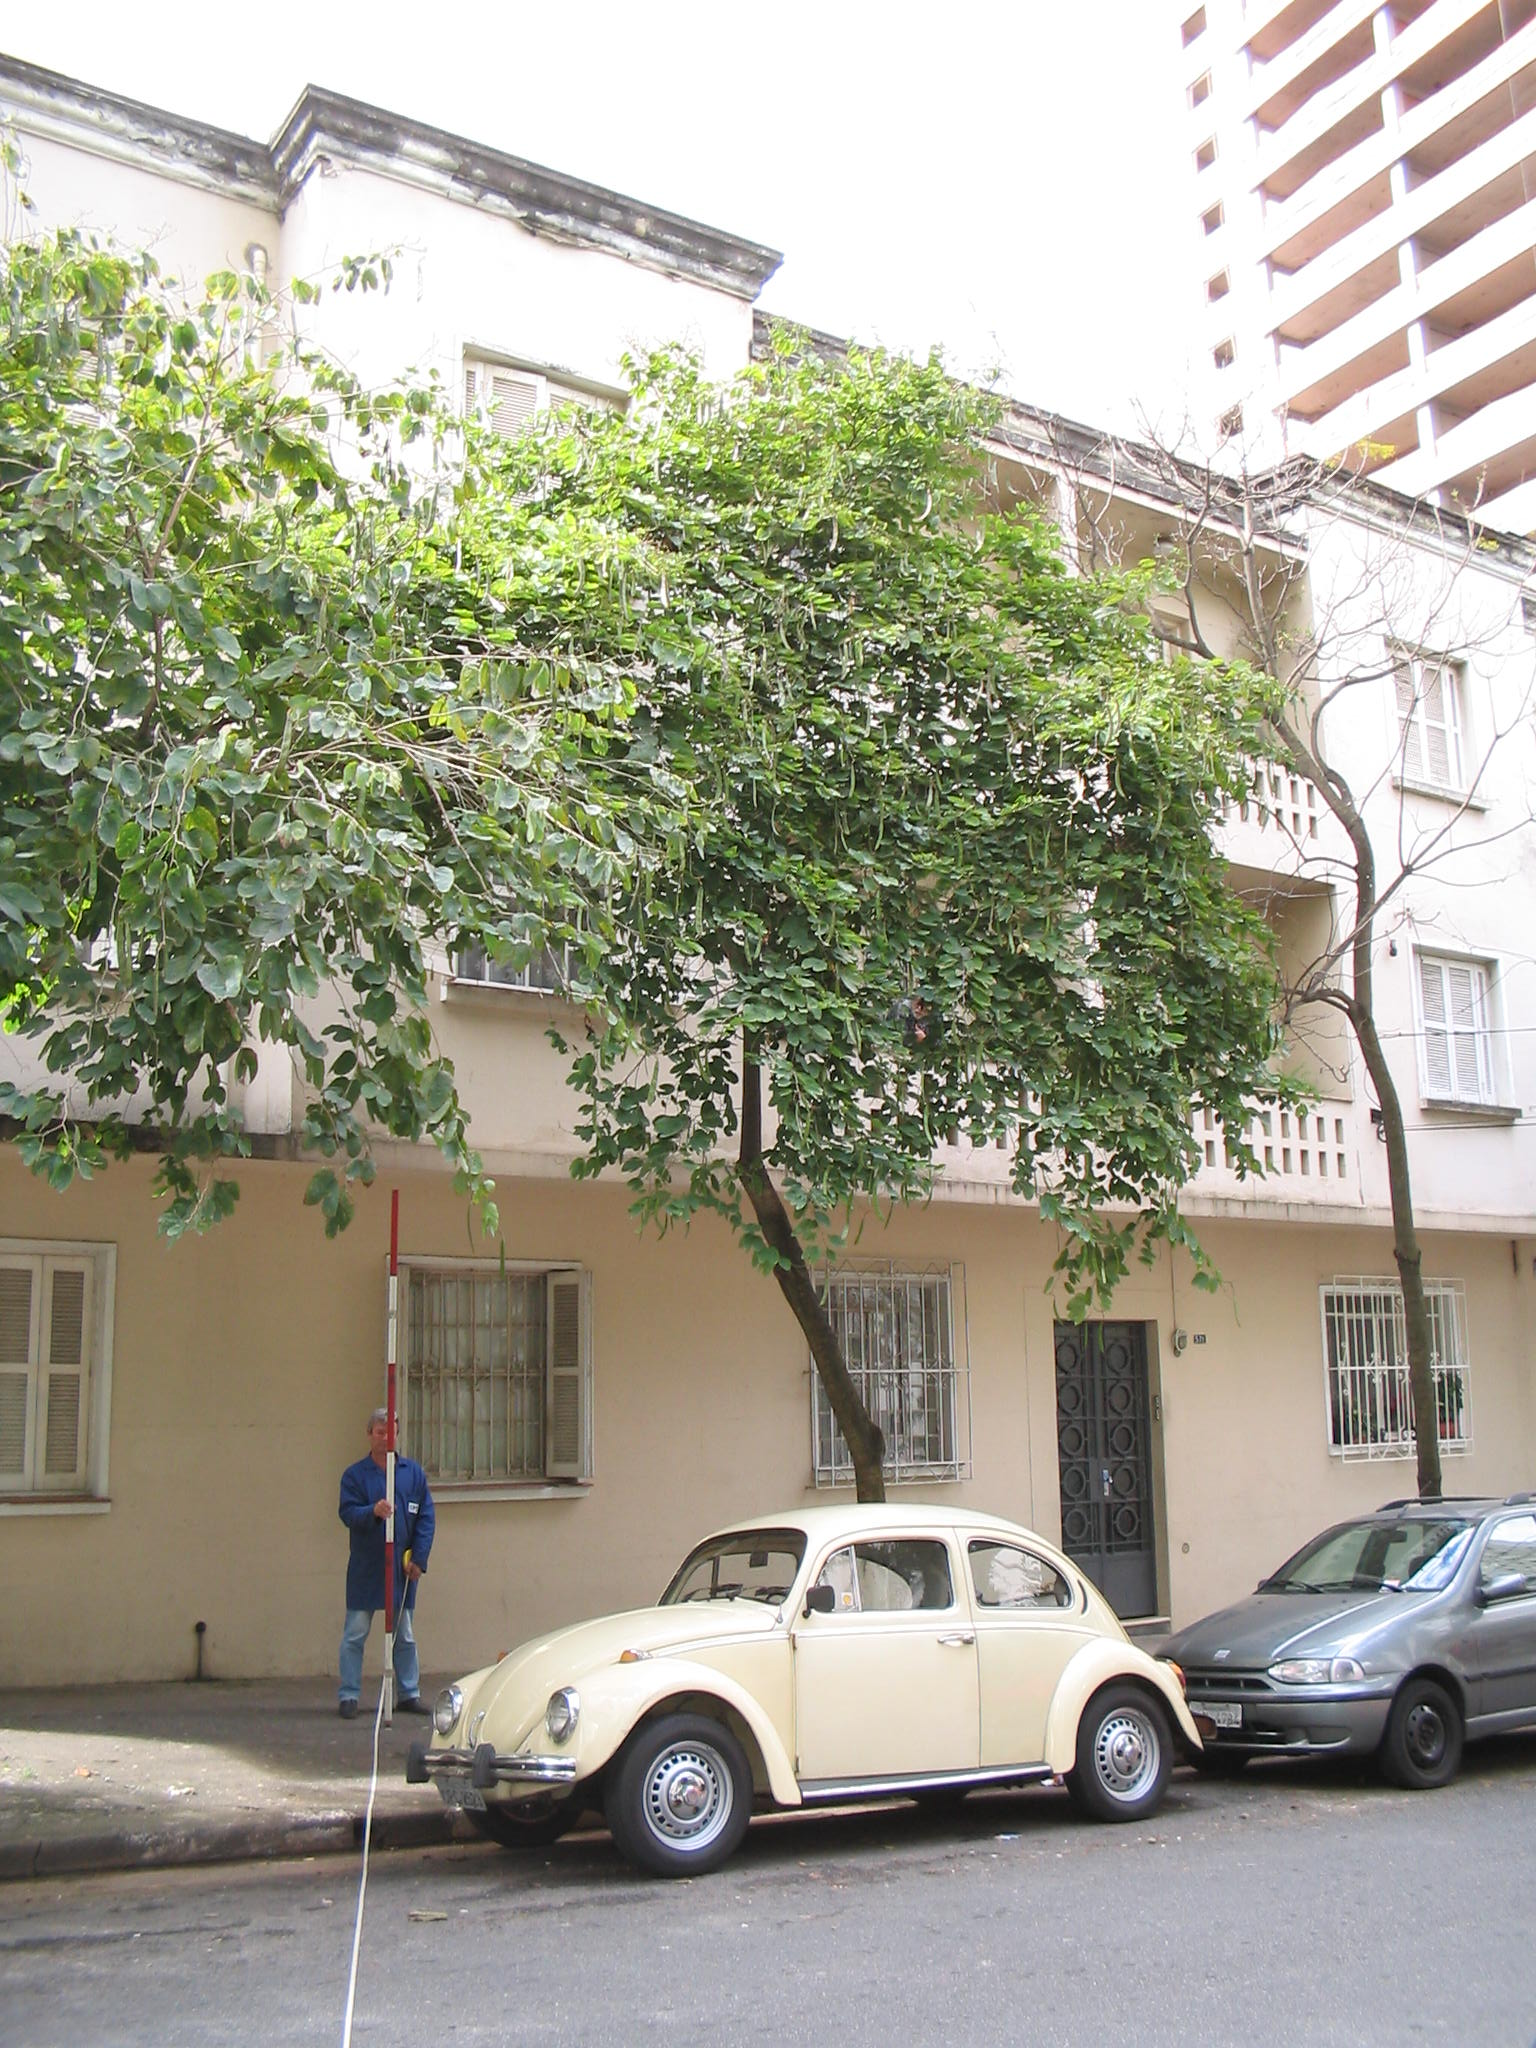crown: (407, 324, 1281, 1382)
stem: (736, 1247, 936, 1717)
stick: (365, 1190, 407, 1725)
tree: (399, 316, 1289, 1725)
